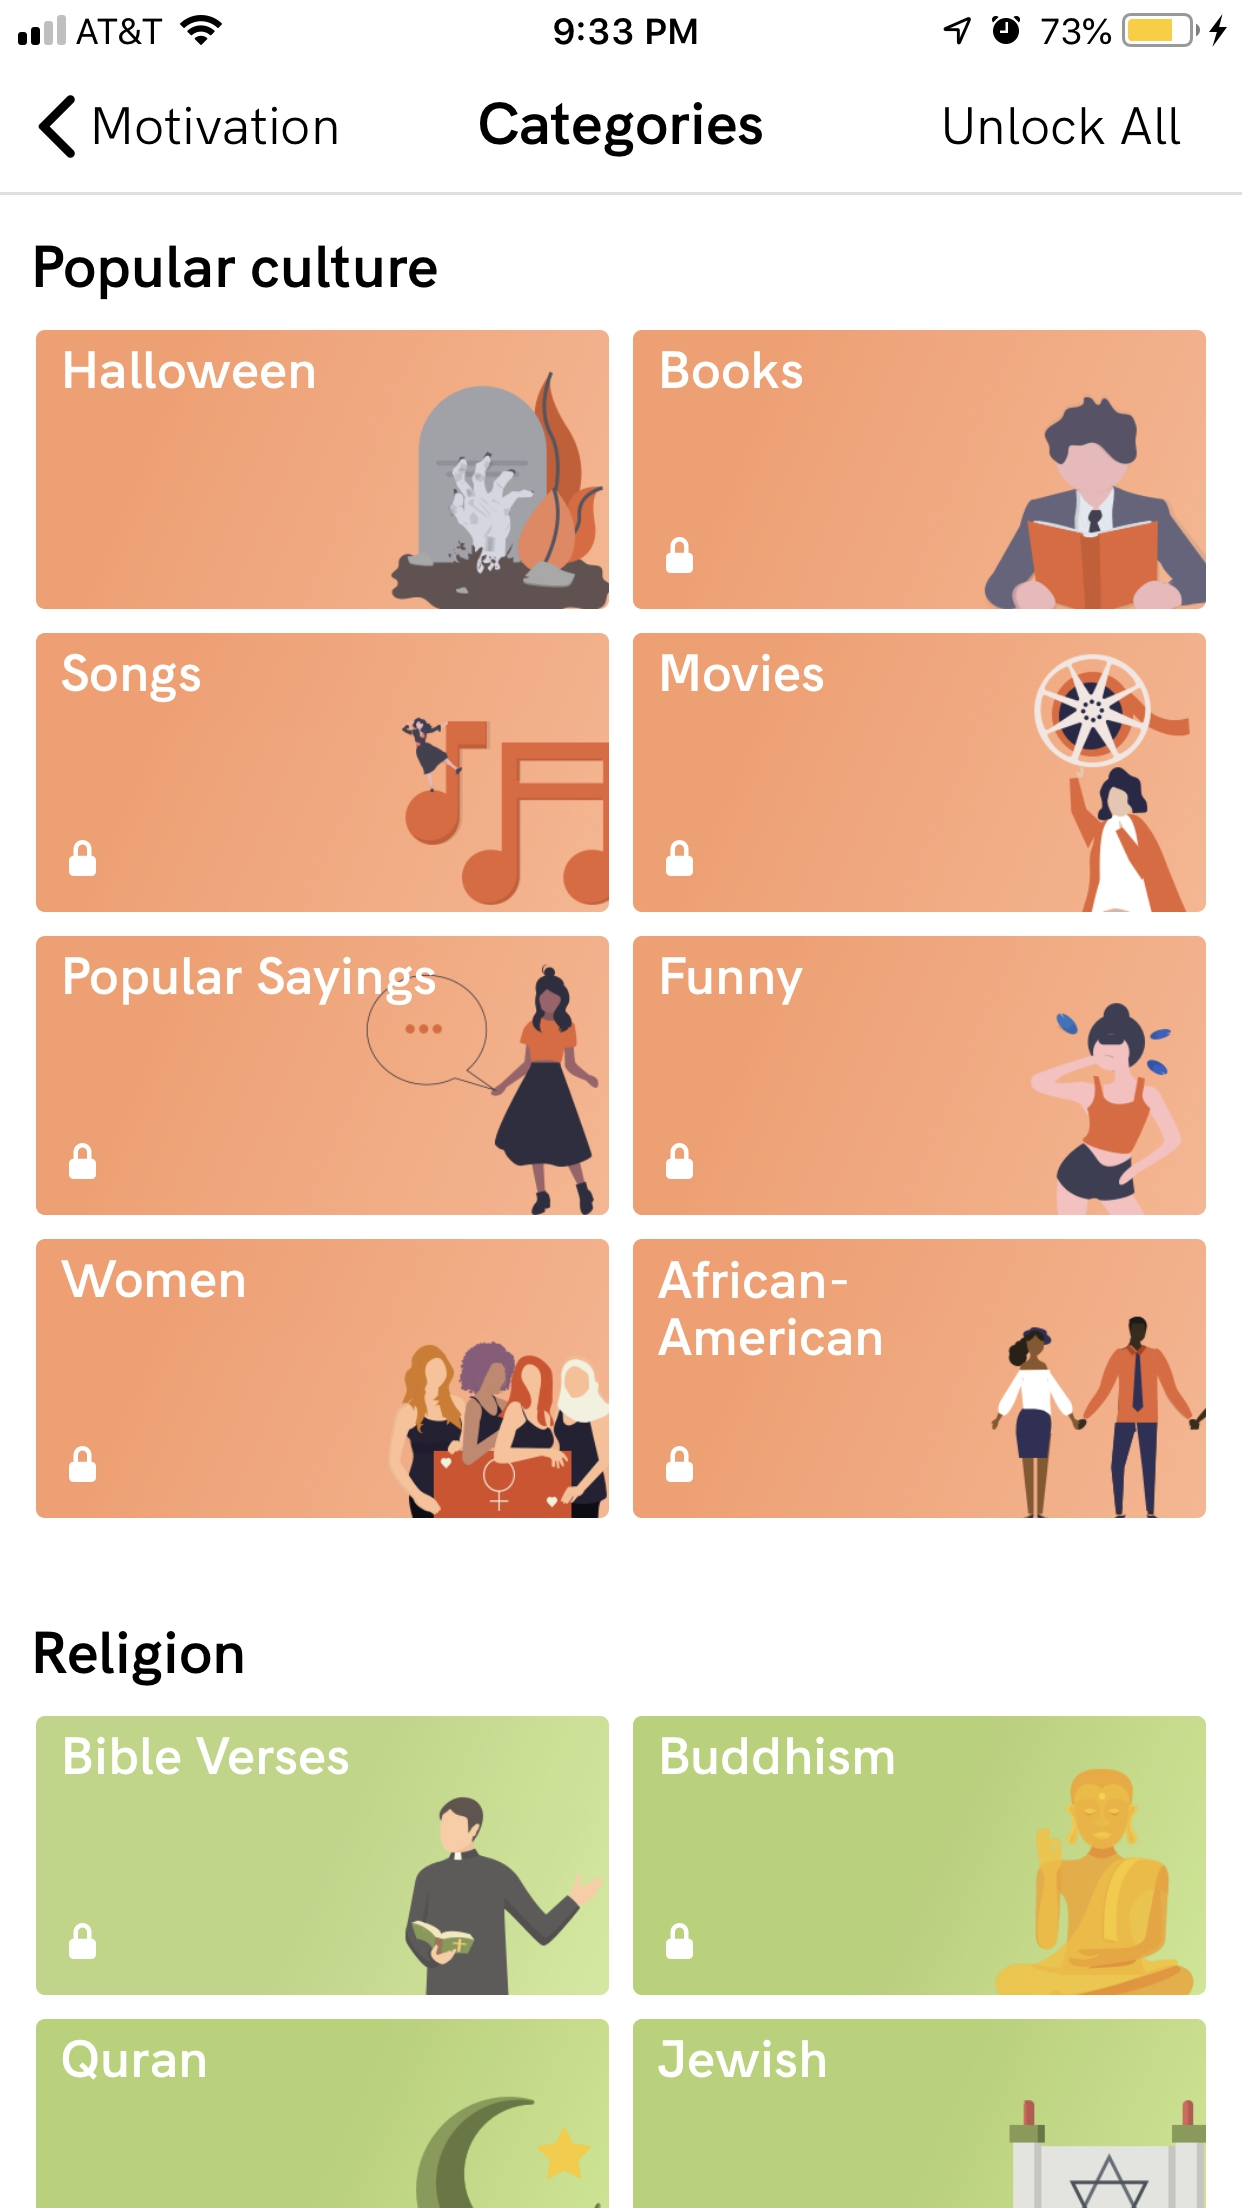Icon: (39, 96, 77, 161), (666, 1445, 695, 1483), (666, 840, 695, 878), (70, 1445, 99, 1482), (666, 1143, 695, 1180), (666, 538, 695, 575), (666, 1921, 693, 1958), (70, 1143, 97, 1178), (70, 842, 97, 877), (70, 1923, 96, 1959)
Image: (365, 964, 610, 1215), (391, 373, 610, 610), (986, 397, 1206, 610), (995, 1770, 1193, 1996), (1033, 654, 1206, 911), (990, 1316, 1206, 1520), (402, 717, 610, 911), (405, 1796, 604, 1996), (391, 1341, 610, 1520), (1030, 1002, 1181, 1215), (1010, 2100, 1206, 2208), (417, 2097, 604, 2208)
Text: (658, 1259, 883, 1357), (36, 246, 437, 300), (65, 958, 437, 1007), (481, 102, 763, 159), (65, 1736, 350, 1777), (36, 1630, 243, 1686), (65, 350, 315, 391), (96, 108, 338, 147), (943, 108, 1181, 147), (663, 1738, 895, 1774), (61, 1260, 246, 1300), (663, 957, 804, 1007), (62, 654, 202, 704), (661, 654, 823, 693), (660, 2040, 826, 2078), (661, 350, 804, 391), (64, 2040, 206, 2079)
UpperTaskBar: (2, 2, 1242, 49)
